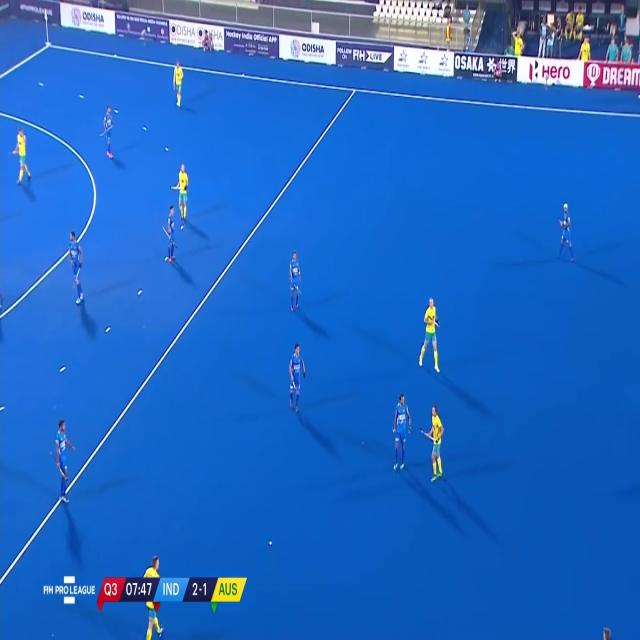ball: (265, 537, 276, 548)
